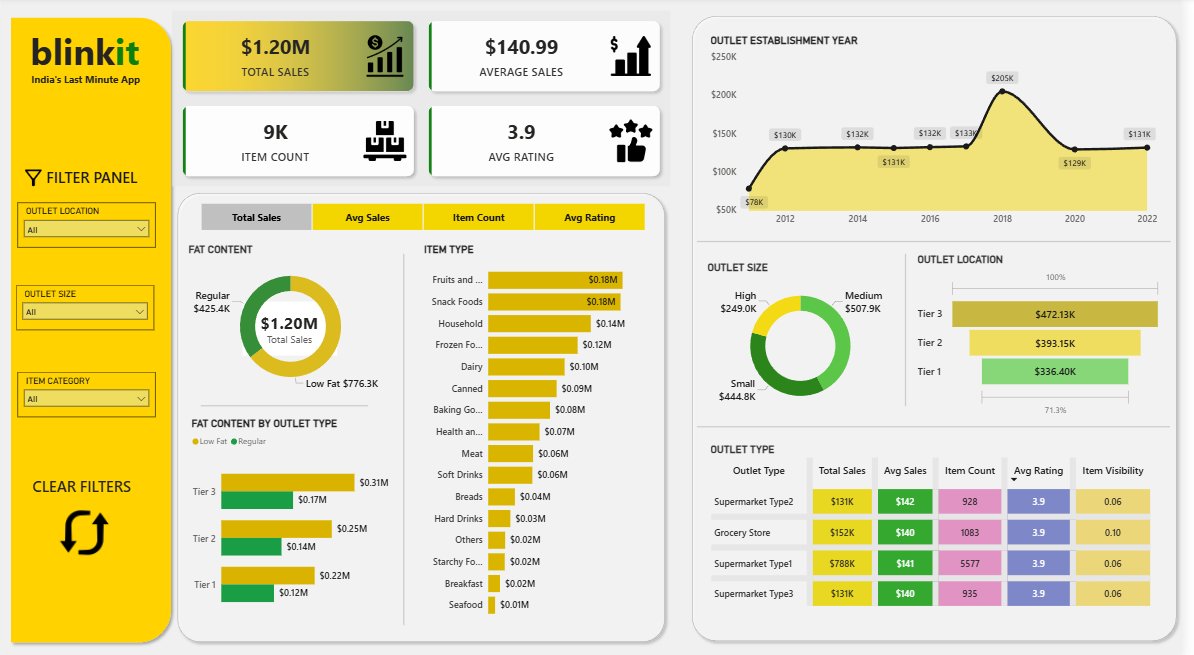

This screenshot's page, from the dashboard's own definition file:
{"tool":"powerbi","page":{"name":"Page 1","canvas":[1920,1080],"ordinal":0},"visuals":[{"type":"shape","box":[7.3,24.4,278.1,1034.5],"z":0},{"type":"textbox","box":[25.5,42.5,223.9,99.2],"z":1000},{"type":"textbox","box":[8.5,116.2,260.8,45.4],"z":2000},{"type":"cardVisual","fields":{"Data":["BlinkIT Grocery Data.Total Sales","BlinkIT Grocery Data.Average Sales","BlinkIT Grocery Data.Item Count","BlinkIT Grocery Data.Avg Rating"]},"box":[277.8,22.7,810.7,286.3],"z":3000},{"type":"shape","box":[277.8,309,810.7,748.4],"z":4000},{"type":"slicer","fields":{"Values":["Measure Selector.Measure Selector"]},"box":[305,334.3,761.2,46.4],"z":5000},{"type":"clusteredBarChart","title":"FAT CONTENT BY OUTLET TYPE","fields":{"Y":["BlinkIT Grocery Data.Total Sales"],"Category":["BlinkIT Grocery Data.Outlet Location Type"],"Series":["BlinkIT Grocery Data.Item Fat Content"]},"box":[305,683.1,331.8,339.1],"z":6000},{"type":"shape","box":[324.5,629.5,273.3,70.8],"z":7000},{"type":"shape","box":[597.8,417.2,114.7,605.1],"z":8000},{"type":"clusteredBarChart","title":"ITEM TYPE","fields":{"Y":["BlinkIT Grocery Data.Total Sales"],"Category":["BlinkIT Grocery Data.Item Type"]},"box":[683.1,400.1,383.1,622.2],"z":9000},{"type":"shape","box":[1114.3,22.4,806.1,1034.7],"z":10000},{"type":"lineChart","title":"OUTLET ESTABLISHMENT YEAR","fields":{"Y":["BlinkIT Grocery Data.Total Sales"],"Category":["BlinkIT Grocery Data.Outlet Establishment Year"]},"box":[1149.2,61,736.8,319.6],"z":11000},{"type":"shape","box":[1132.1,380.6,771,34.2],"z":12000},{"type":"donutChart","title":"OUTLET SIZE","fields":{"Y":["BlinkIT Grocery Data.Total Sales"],"Category":["BlinkIT Grocery Data.Outlet Size"]},"box":[1149,430.6,302,251],"z":13000},{"type":"shape","box":[1451.7,417.2,39,248.9],"z":14000},{"type":"funnel","title":"OUTLET LOCATION","fields":{"Category":["BlinkIT Grocery Data.Outlet Location Type"],"Y":["BlinkIT Grocery Data.Total Sales"]},"box":[1489.8,416.3,395.9,265.3],"z":15000},{"type":"shape","box":[1132.7,681.6,769.4,36.7],"z":16000},{"type":"tableEx","title":"OUTLET TYPE","fields":{"Values":["BlinkIT Grocery Data.Outlet Type","BlinkIT Grocery Data.Total Sales","BlinkIT Grocery Data.Average Sales","BlinkIT Grocery Data.Item Count","BlinkIT Grocery Data.Avg Rating","Avg(BlinkIT Grocery Data.Item Visibility)"]},"box":[1149,720.4,736.7,302],"z":17000},{"type":"slicer","fields":{"Values":["BlinkIT Grocery Data.Outlet Location Type"]},"box":[26.8,334.3,224.5,73.2],"z":18000},{"type":"slicer","fields":{"Values":["BlinkIT Grocery Data.Outlet Size"]},"box":[24.4,468.4,224.5,73.2],"z":19000},{"type":"slicer","fields":{"Values":["BlinkIT Grocery Data.Item Type"]},"box":[26.8,610,224.5,73.2],"z":20000},{"type":"textbox","box":[61,270.8,173.2,46.4],"z":21000},{"type":"image","box":[26.8,270.8,51.2,46.4],"z":22000},{"type":"textbox","box":[46.4,773.4,183,46.4],"z":23000},{"type":"image","box":[43.9,822.2,183,97.6],"z":24000},{"type":"cardVisual","fields":{"Data":["BlinkIT Grocery Data.Total Sales"]},"box":[392.8,495.3,153.7,87.8],"z":25000},{"type":"donutChart","title":"FAT CONTENT","fields":{"Y":["BlinkIT Grocery Data.Total Sales"],"Category":["BlinkIT Grocery Data.Item Fat Content"]},"box":[305,400.1,331.8,246.4],"z":26000}]}

Visuals, with their boxes in screenshot pixels (x1, y1, x2, y2), scaled from the page's 1920x1080 canvas onto the 1194x655 screenshot:
shape: Rect(5, 15, 177, 642)
textbox: Rect(16, 26, 155, 86)
textbox: Rect(5, 70, 167, 98)
cardVisual - BlinkIT Grocery Data.Total Sales x BlinkIT Grocery Data.Average Sales: Rect(173, 14, 677, 187)
shape: Rect(173, 187, 677, 641)
slicer - Measure Selector.Measure Selector: Rect(190, 203, 663, 231)
"FAT CONTENT BY OUTLET TYPE" clusteredBarChart: Rect(190, 414, 396, 620)
shape: Rect(202, 382, 372, 425)
shape: Rect(372, 253, 443, 620)
"ITEM TYPE" clusteredBarChart: Rect(425, 243, 663, 620)
shape: Rect(693, 14, 1193, 641)
"OUTLET ESTABLISHMENT YEAR" lineChart: Rect(715, 37, 1173, 231)
shape: Rect(704, 231, 1183, 252)
"OUTLET SIZE" donutChart: Rect(715, 261, 902, 413)
shape: Rect(903, 253, 927, 404)
"OUTLET LOCATION" funnel: Rect(926, 252, 1173, 413)
shape: Rect(704, 413, 1183, 436)
"OUTLET TYPE" tableEx: Rect(715, 437, 1173, 620)
slicer - BlinkIT Grocery Data.Outlet Location Type: Rect(17, 203, 156, 247)
slicer - BlinkIT Grocery Data.Outlet Size: Rect(15, 284, 155, 328)
slicer - BlinkIT Grocery Data.Item Type: Rect(17, 370, 156, 414)
textbox: Rect(38, 164, 146, 192)
image: Rect(17, 164, 49, 192)
textbox: Rect(29, 469, 143, 497)
image: Rect(27, 499, 141, 558)
cardVisual - BlinkIT Grocery Data.Total Sales: Rect(244, 300, 340, 354)
"FAT CONTENT" donutChart: Rect(190, 243, 396, 392)
